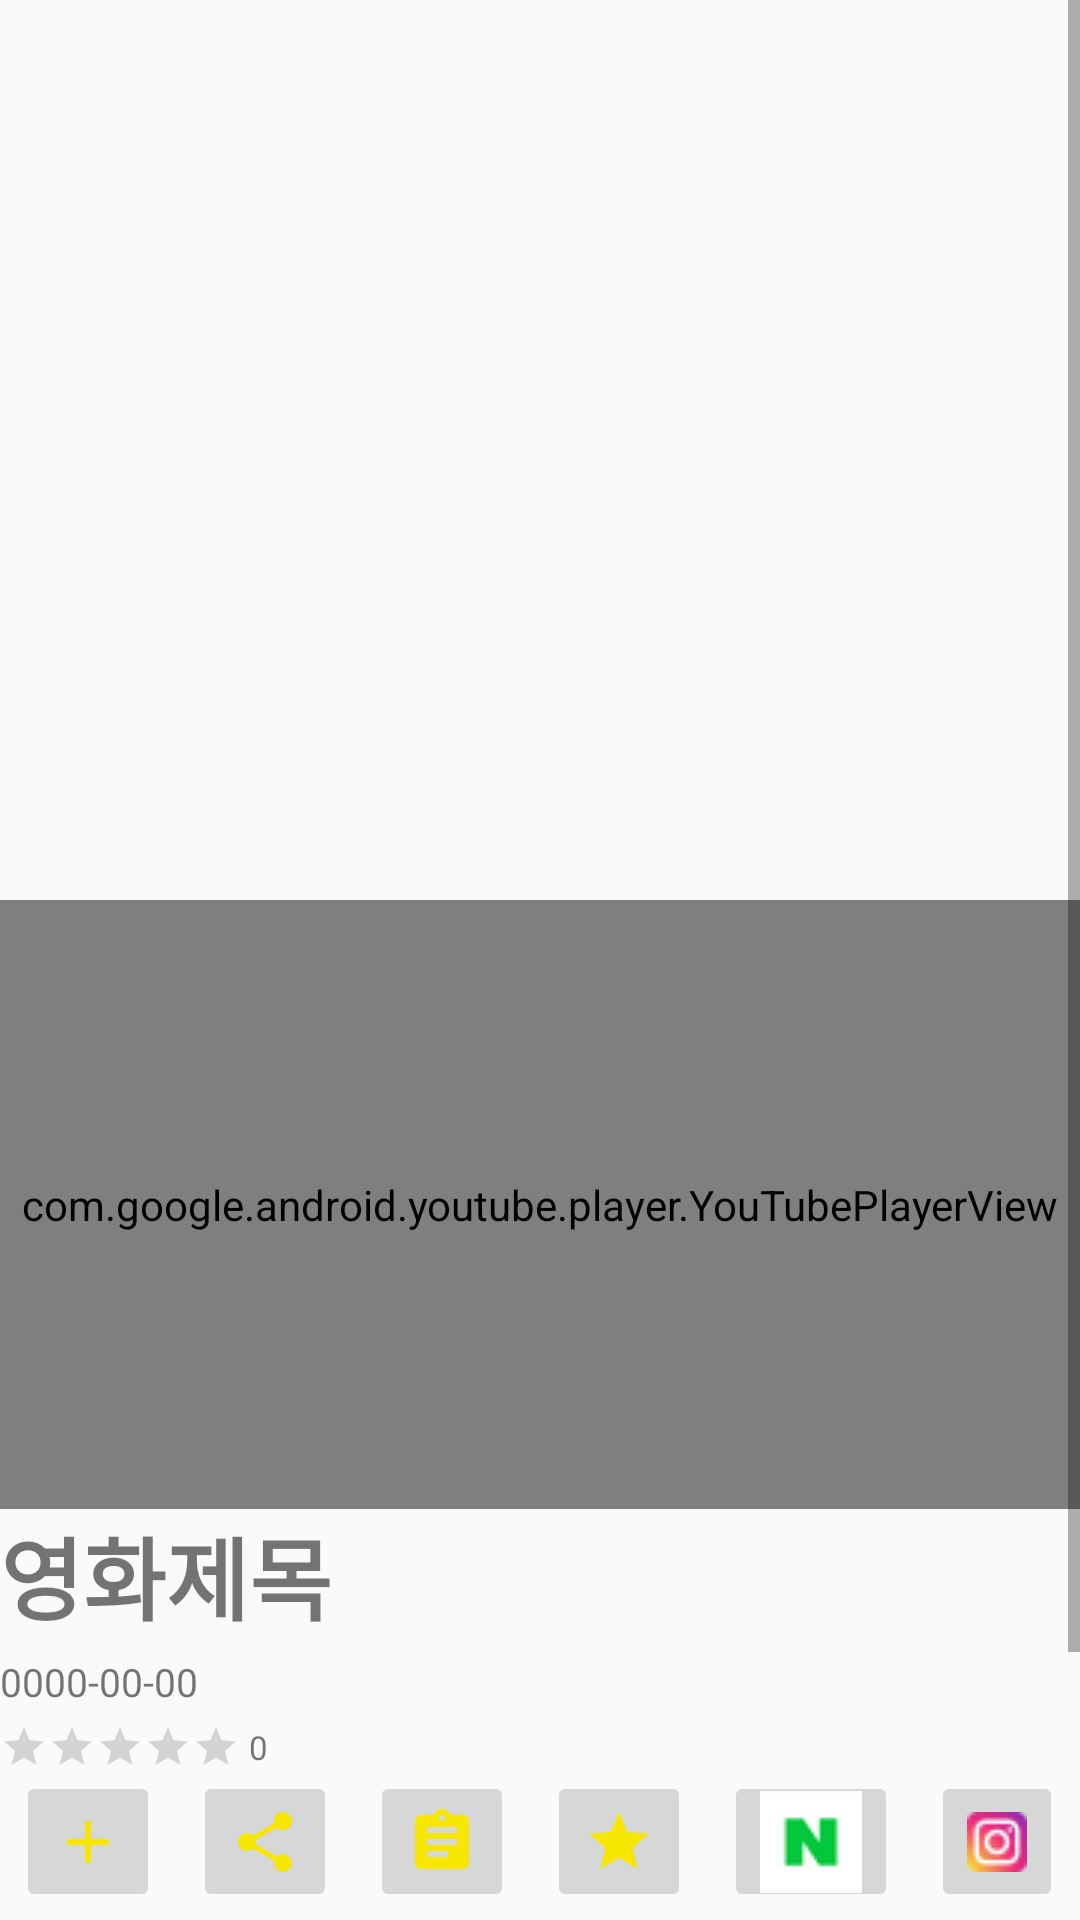

Icon click points for this 1080w x 1920h phone screenshot, format point (x, y):
movie add: point (88, 1841)
movie memo: point (442, 1841)
movie rating: point (619, 1841)
movie share: point (265, 1841)
